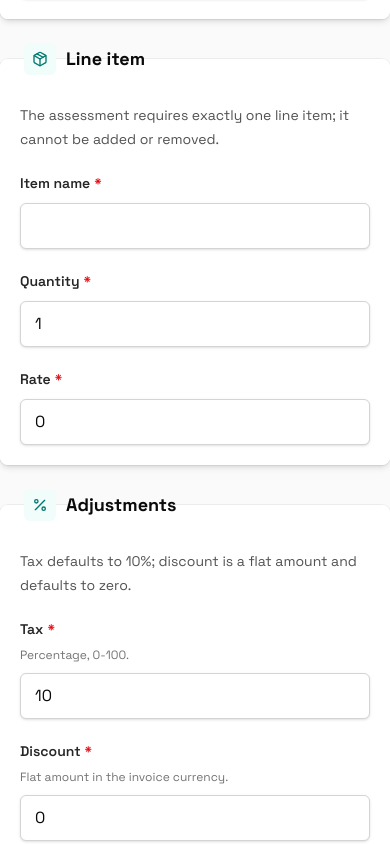
Scenario: CreateInvoiceForm › recalculates the live summary as the rate changes
(page scrolled)
In the number field labelled "Rate": [195, 422] box [20, 399, 370, 445], type "125.5"
(page scrolled)
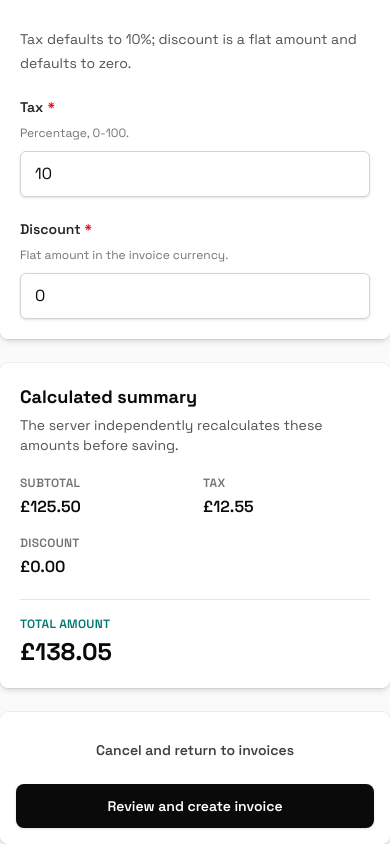
Expected: the text "£138.05" is shown, [20, 636, 112, 667]
